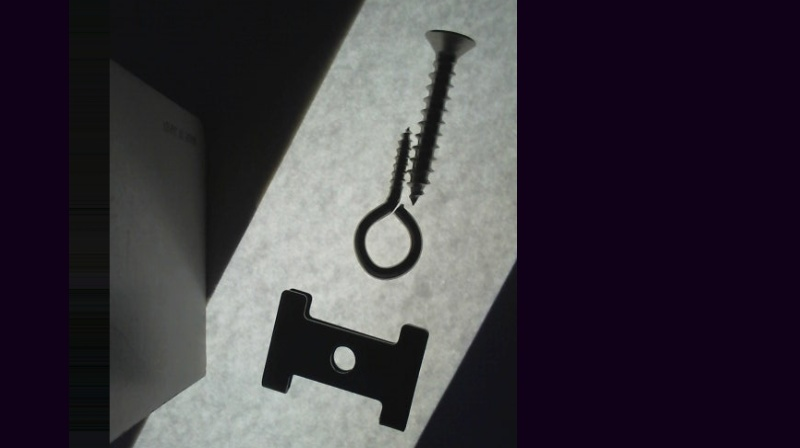O001: (353, 125, 422, 282)
O002: (257, 288, 429, 434)
S001: (407, 26, 474, 206)
